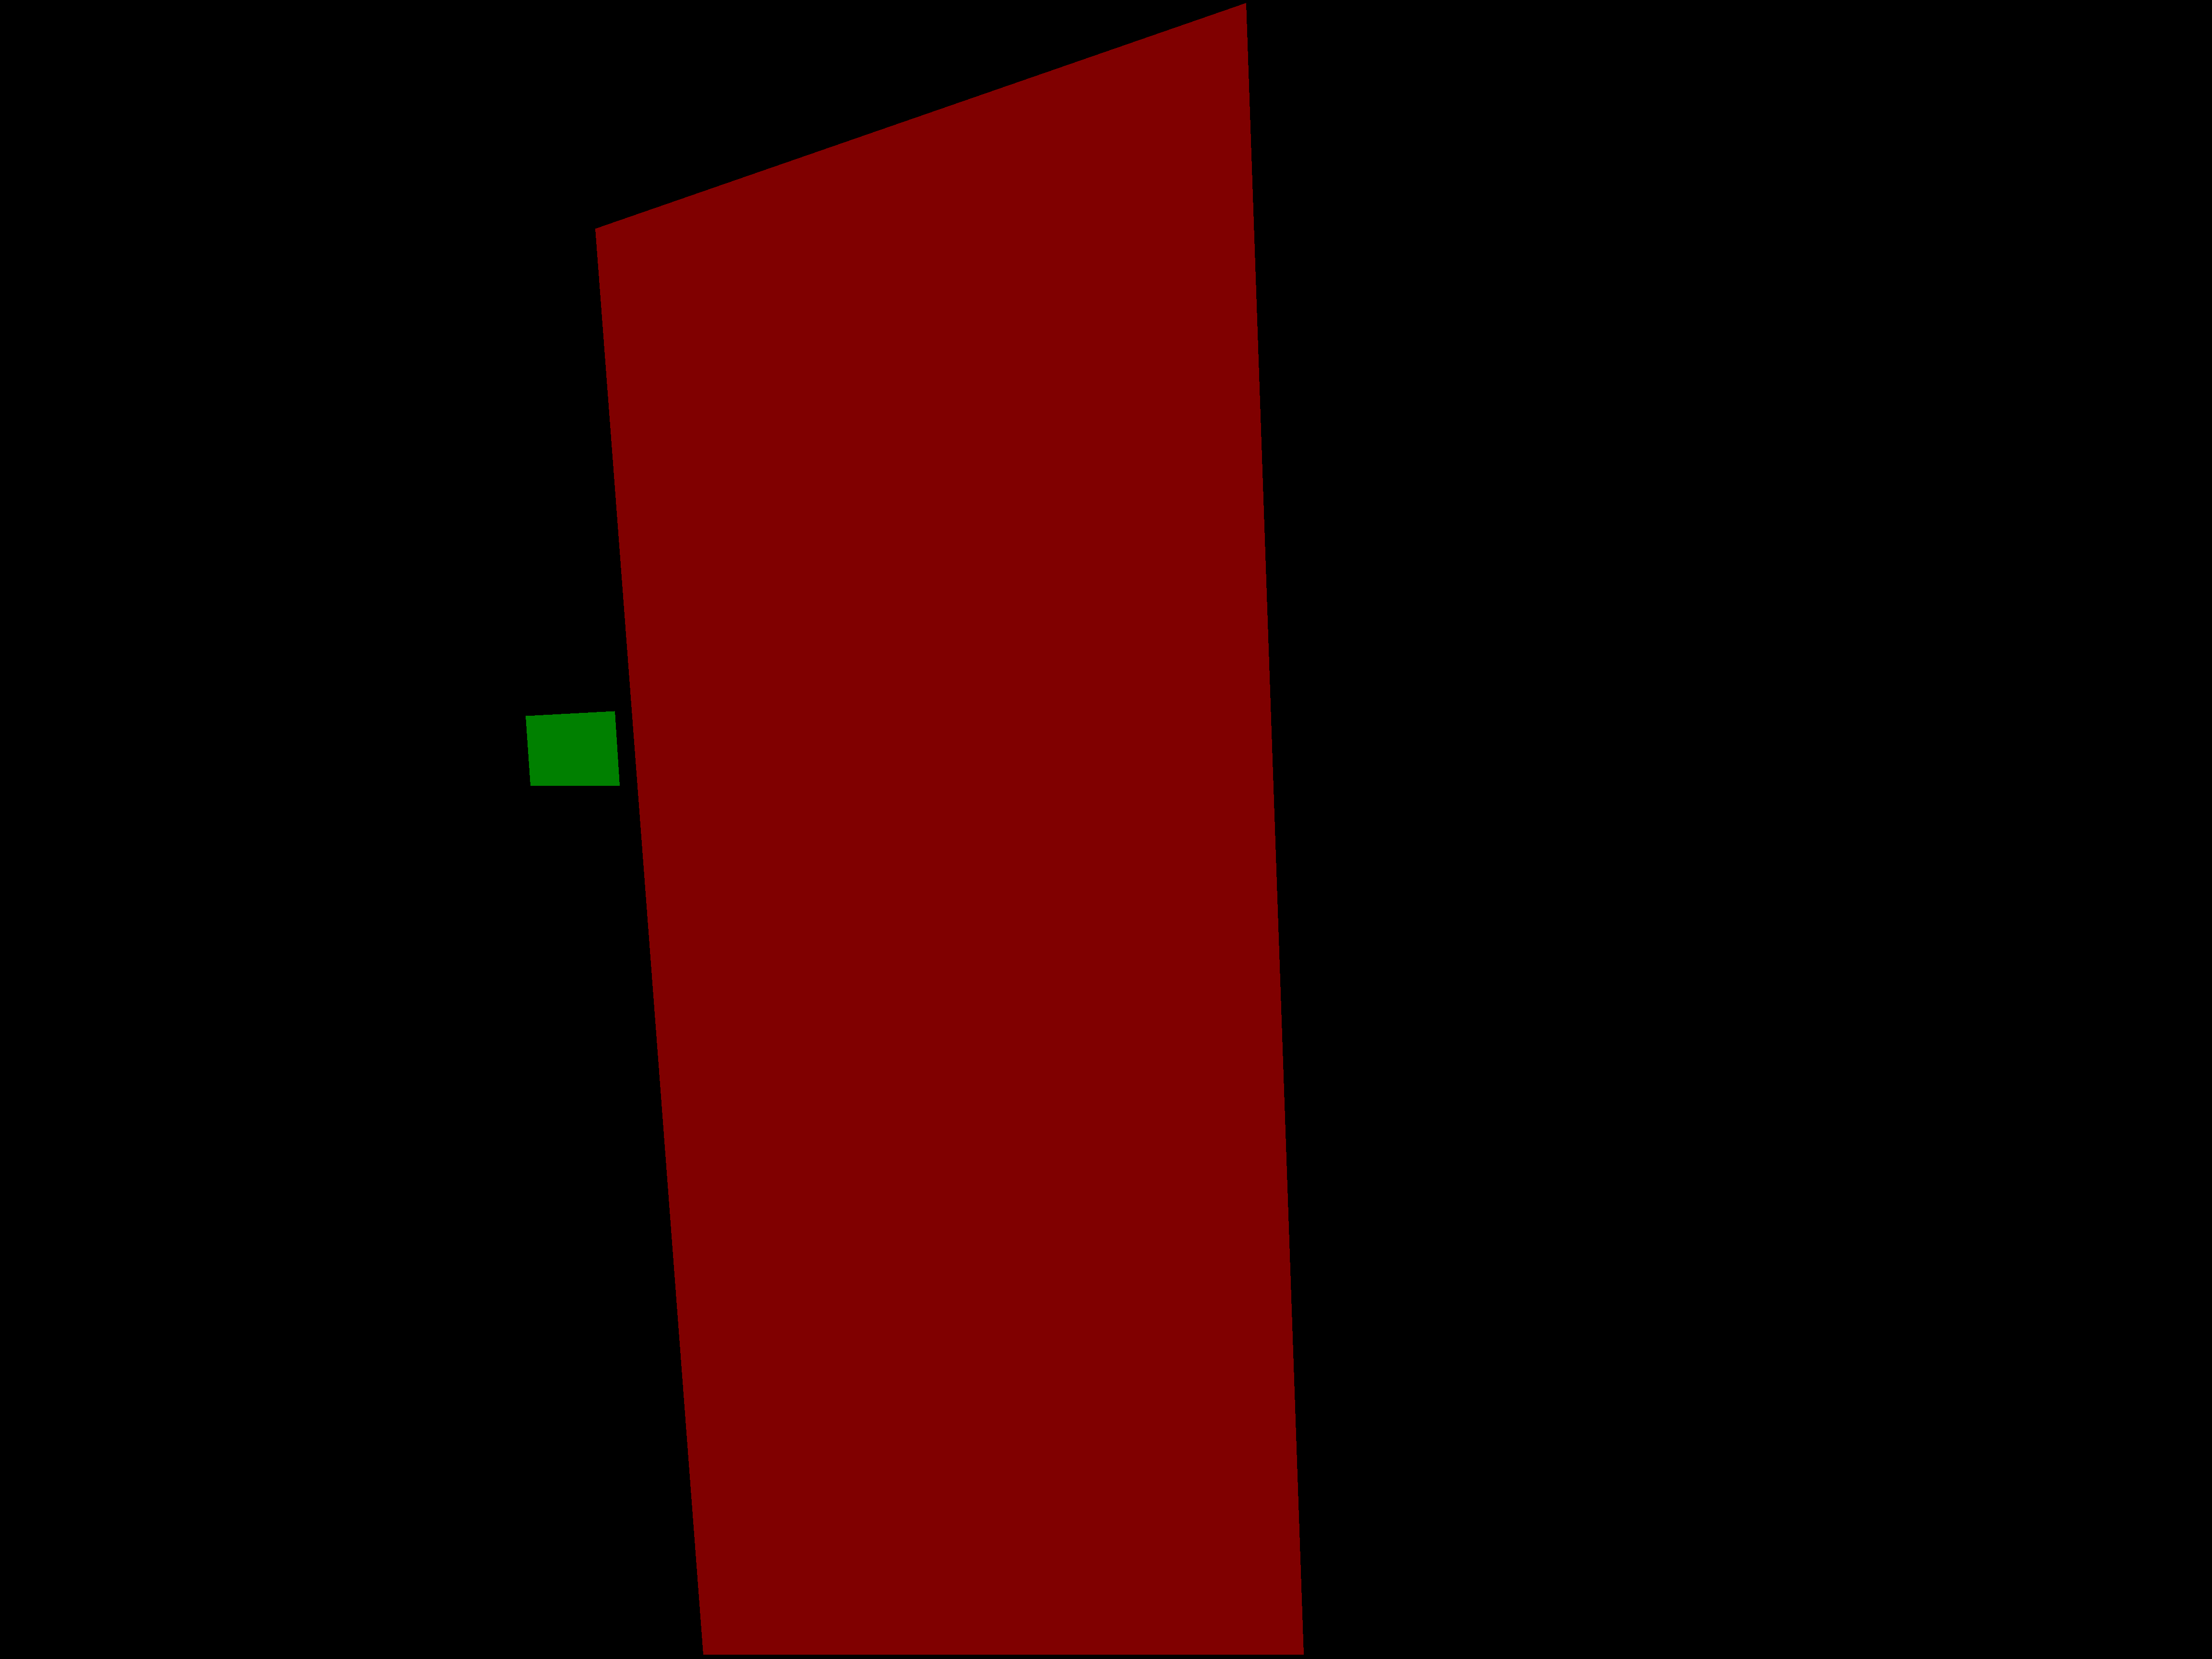door: (596, 3, 1303, 1654)
sign: (526, 711, 620, 786)
